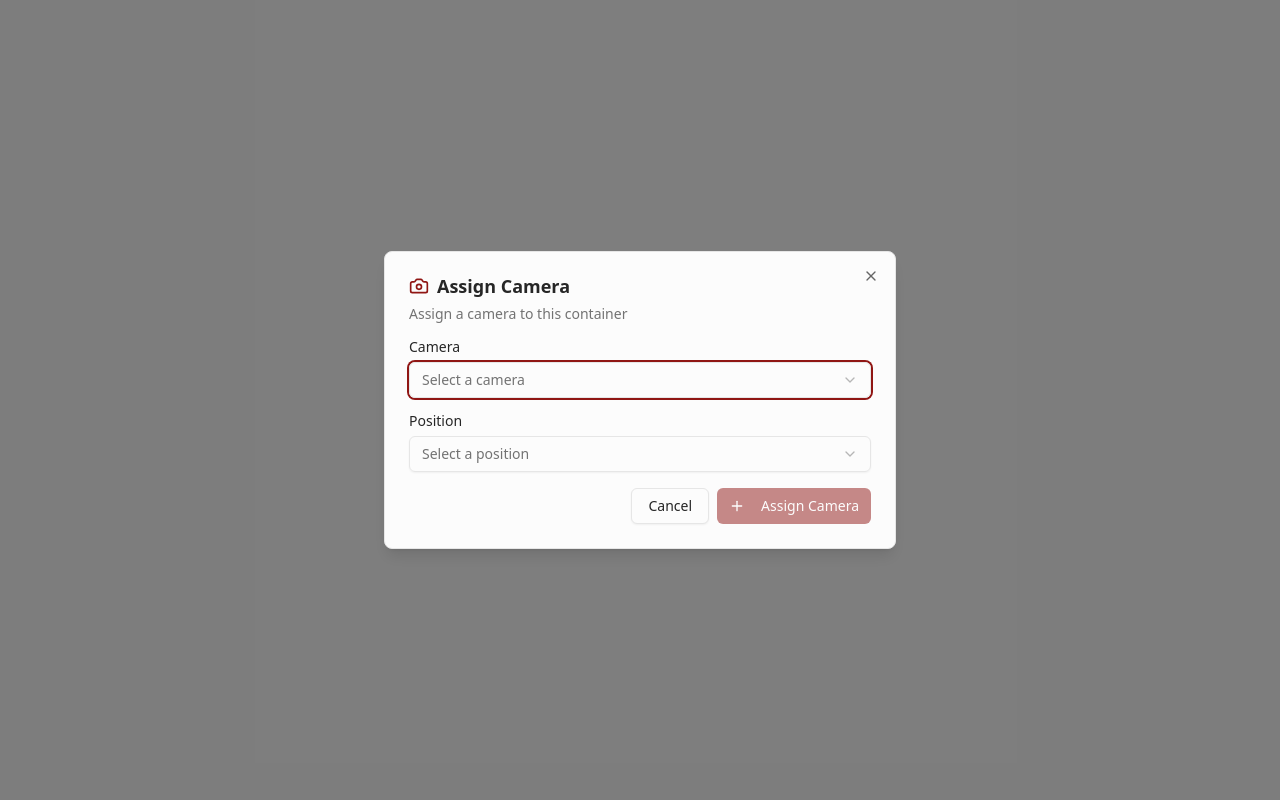
Test case: AssignCameraDialog › Camera Selection › shows selected camera info when camera is selected
// Click the camera select to open dropdown
Click the dropdown with test id "camera-select" at point(473, 380), box [409,362,871,398]
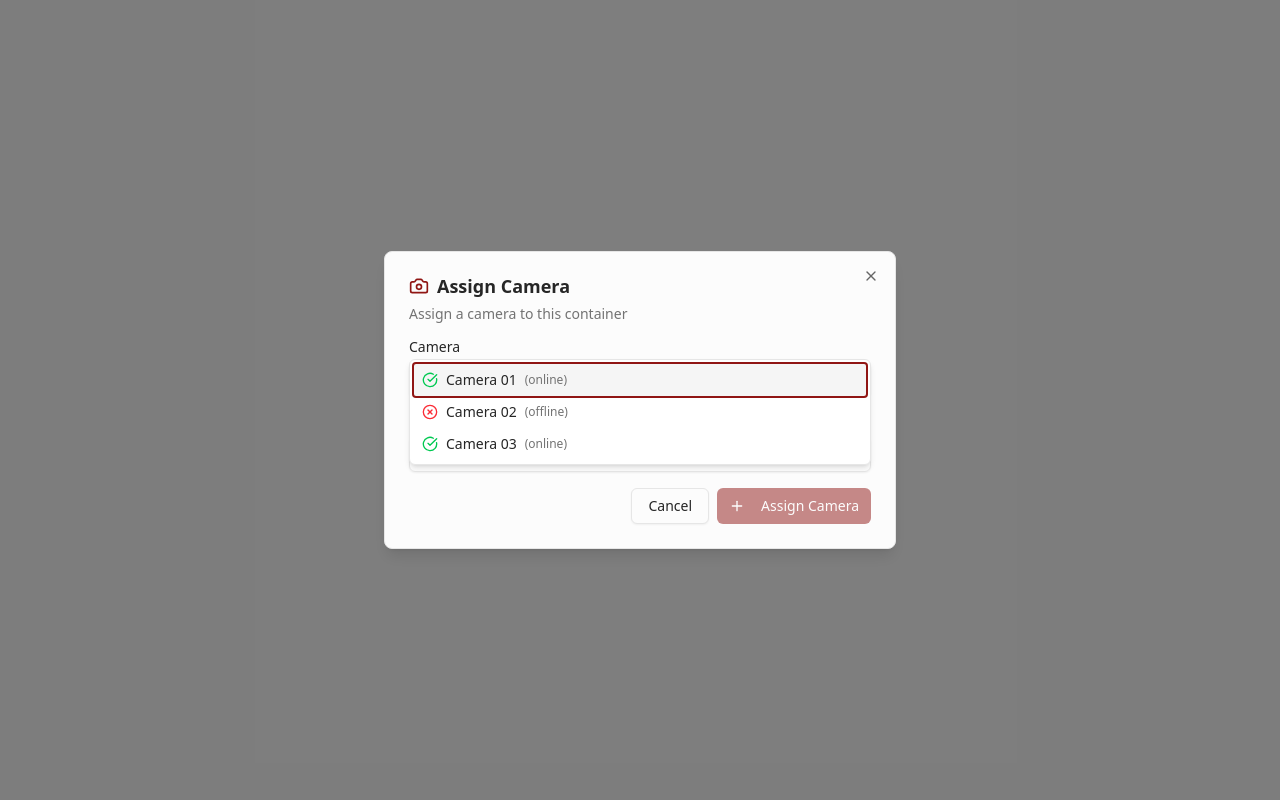
// Select first camera - use getAllByText and take the first option
Click the text "Camera 01" at point(481, 380), box [446,370,517,390]
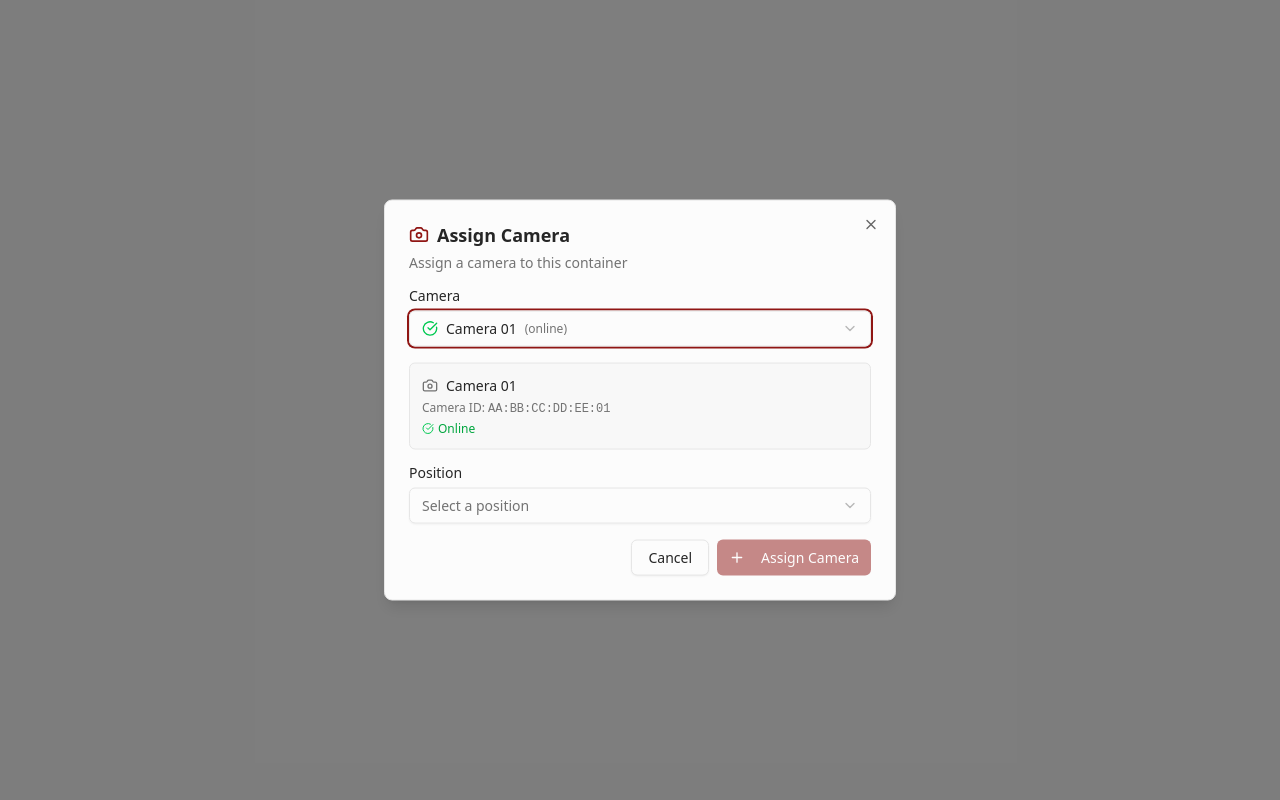
expect the text "AA:BB:CC:DD:EE:01" is shown: met, box [488,402,610,416]
